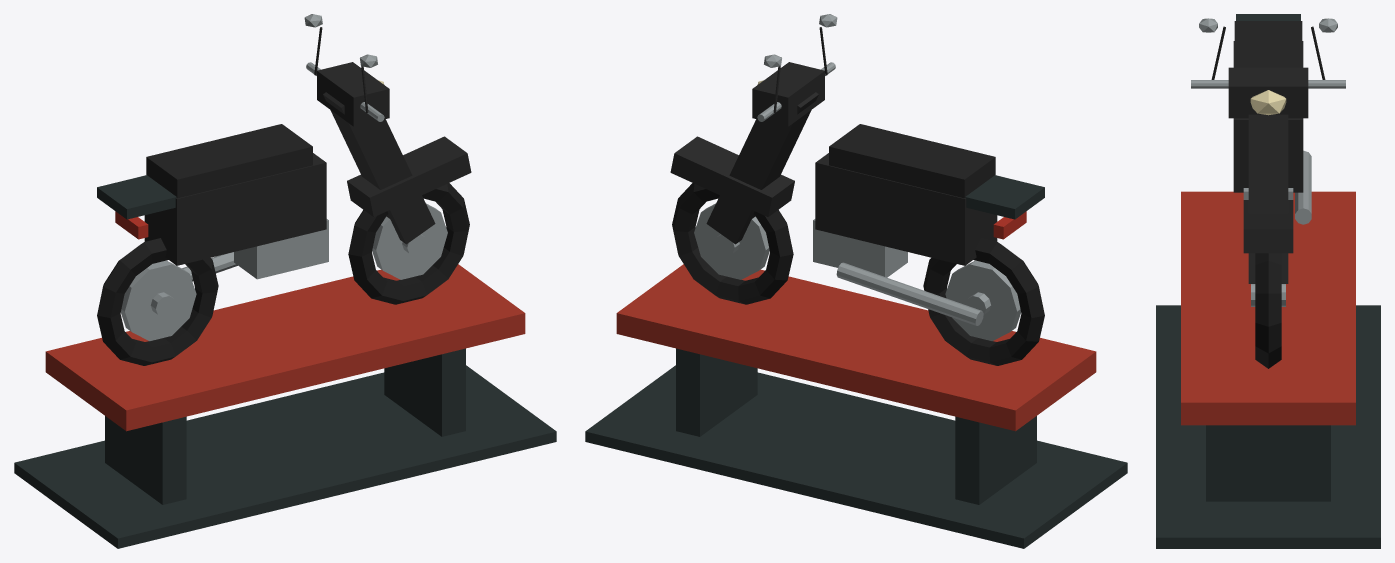
The model's file is ban_nang.glb.
3 views of the same model, side by side, from view 1: azimuth 30°, elevation 25°; view 2: azimuth 150°, elevation 25°; view 3: azimuth 270°, elevation 25° (orthographic). The views are drawn at different scales.
Visible parts, largest first — view 1: ban_nang; view 2: ban_nang; view 3: ban_nang.
Part boxes in pixels (x1=…): ban_nang: x1=14, y1=14, x2=556, y2=548; ban_nang: x1=585, y1=14, x2=1127, y2=548; ban_nang: x1=1156, y1=14, x2=1380, y2=548.
Size of the model in its own units: 2.2 by 1.96 by 0.9.
